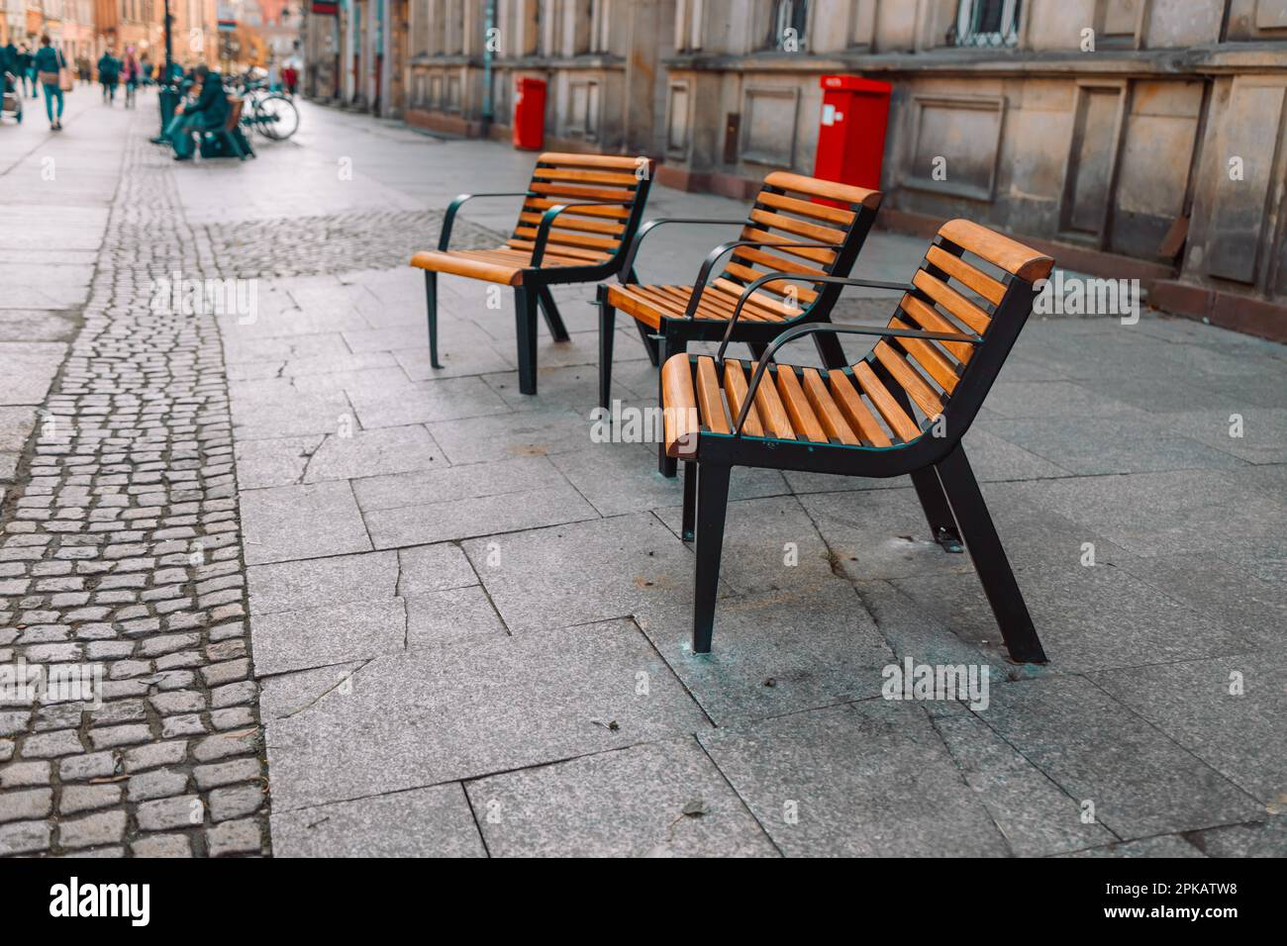Chair: (647, 233, 1108, 679), (393, 134, 665, 375), (626, 166, 869, 376)
Person: (157, 62, 230, 160), (22, 33, 88, 131)
